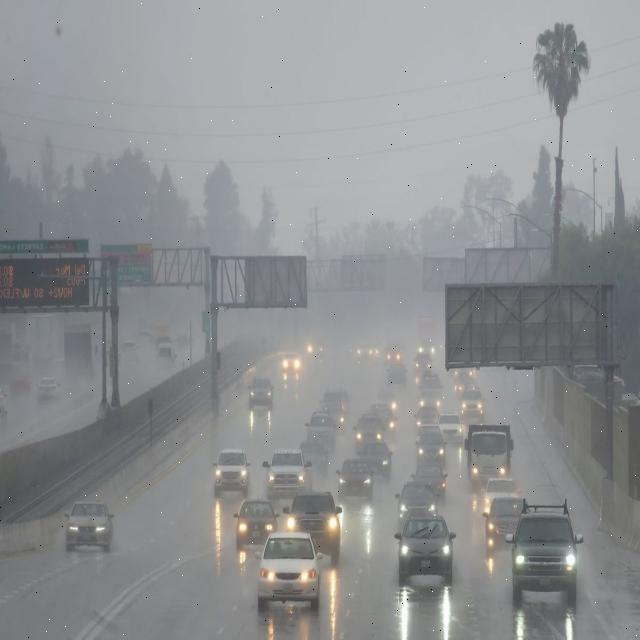Car: (507, 499, 583, 602), (256, 528, 324, 608), (395, 511, 456, 586), (283, 488, 343, 562), (264, 447, 314, 501), (64, 499, 114, 552), (482, 494, 525, 552), (233, 498, 279, 550), (394, 480, 439, 525), (213, 446, 251, 496), (335, 457, 375, 500), (409, 463, 448, 504), (305, 410, 338, 452), (356, 441, 393, 478), (414, 423, 447, 464), (297, 439, 329, 475), (353, 415, 386, 449), (436, 412, 464, 446), (414, 448, 444, 479), (459, 386, 485, 420), (248, 376, 274, 409), (370, 402, 397, 432), (322, 389, 350, 416), (414, 404, 441, 430), (418, 370, 443, 396), (36, 375, 62, 400), (10, 367, 32, 395), (374, 389, 397, 414), (156, 338, 179, 362), (280, 353, 301, 379), (386, 362, 408, 386), (573, 364, 600, 383), (413, 351, 433, 373), (385, 343, 404, 365), (453, 374, 471, 394), (451, 364, 468, 384), (0, 359, 17, 379), (1, 389, 10, 422), (348, 345, 365, 362), (620, 392, 638, 407), (109, 346, 122, 365), (175, 333, 191, 348), (92, 336, 104, 356), (122, 339, 140, 352), (311, 341, 325, 357), (462, 364, 476, 378), (414, 344, 428, 358), (51, 356, 65, 370), (367, 346, 380, 358), (138, 328, 152, 338), (427, 344, 435, 356), (438, 342, 445, 355), (356, 347, 362, 355)
Truck: (468, 425, 512, 486), (417, 316, 437, 345)
